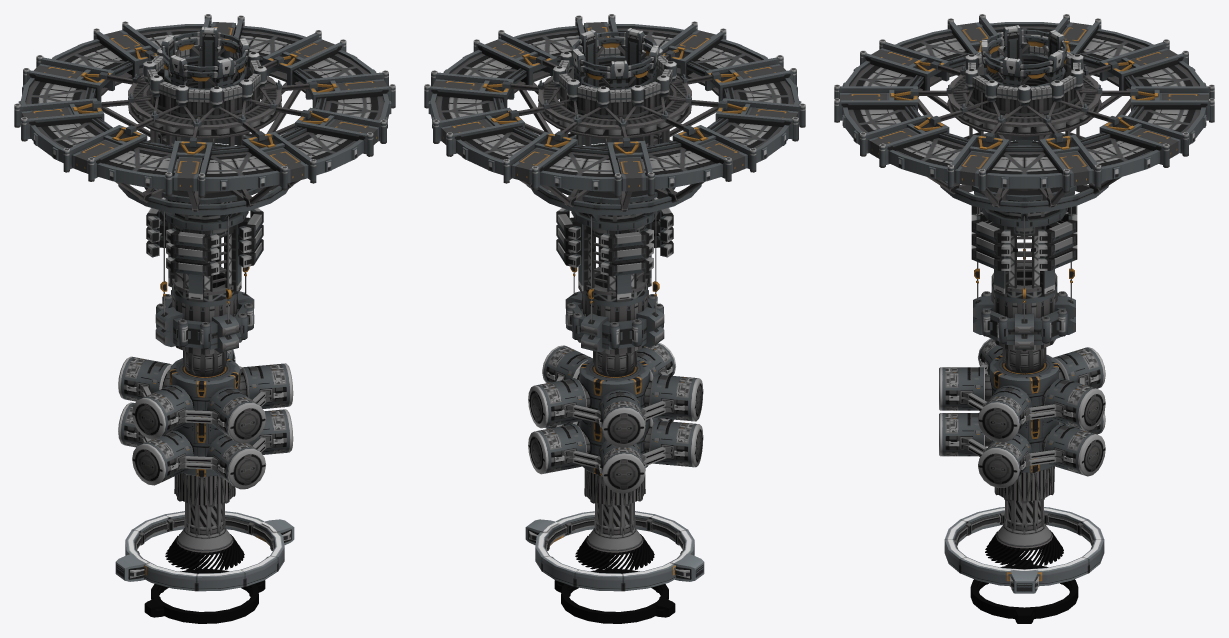
Rendered from orbital-collector.glb.
3 renders of one model, left to right at view 1: azimuth 30°, elevation 25°; view 2: azimuth 150°, elevation 25°; view 3: azimuth 270°, elevation 25°, orthographic.
Visible parts, largest first — view 1: orbital-collector, orbital-collector-1-2, orbital-collector-1, orbital-collector-1-3; view 2: orbital-collector, orbital-collector-1-3, orbital-collector-1-1, orbital-collector-1-2; view 3: orbital-collector, orbital-collector-1, orbital-collector-1-1.
Boxes of the visible parts, <box> form: orbital-collector: <box>14,14,395,623</box>; orbital-collector-1-2: <box>166,228,219,276</box>; orbital-collector-1: <box>238,208,263,267</box>; orbital-collector-1-3: <box>146,198,168,257</box>; orbital-collector: <box>424,14,805,623</box>; orbital-collector-1-3: <box>600,228,653,276</box>; orbital-collector-1-1: <box>556,208,581,267</box>; orbital-collector-1-2: <box>651,198,673,257</box>; orbital-collector: <box>834,14,1214,623</box>; orbital-collector-1: <box>971,217,1010,270</box>; orbital-collector-1-1: <box>1038,217,1077,270</box>.
Size of the model in its own units: 27.94 by 45.81 by 28.49.
2 materials, 2 textured.
